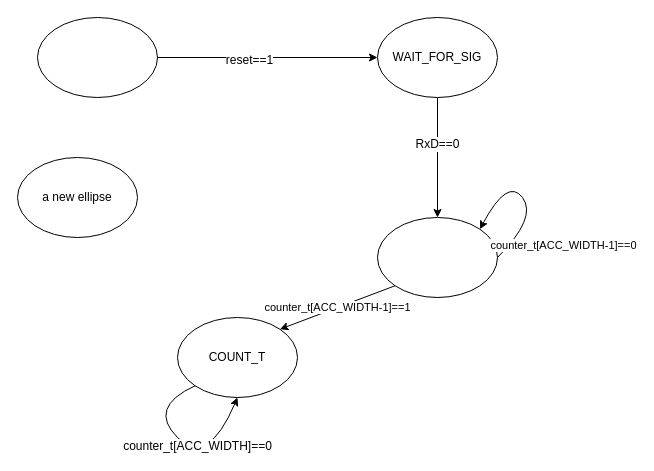
Image size: 654x471. Some labels were removed from this diagram. Here are the shapes that lost their labels. From the top down, the centre of each, then its label:
At (97,57): "RESET".
At (437,257): "COUNT_T_2".
